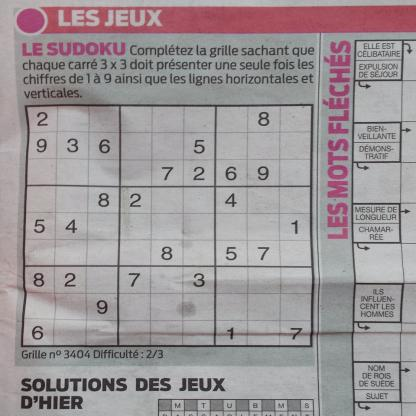sudoku: (18, 102, 317, 351)
